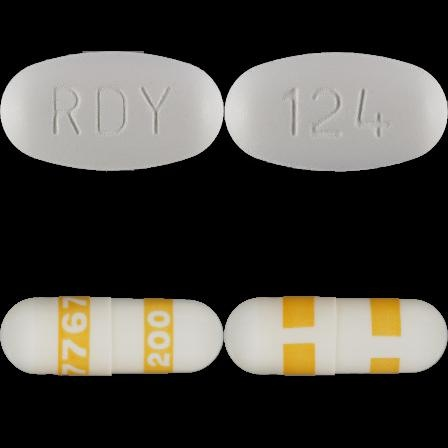68788-9983: (0, 0, 224, 224)
